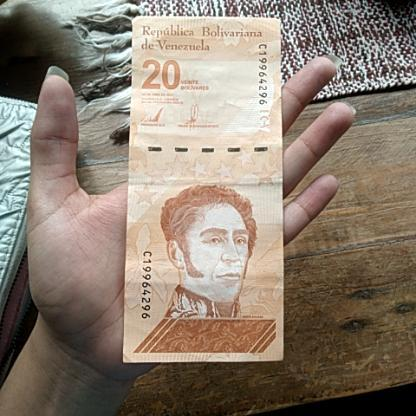twenty-front-vef: (120, 17, 285, 363)
